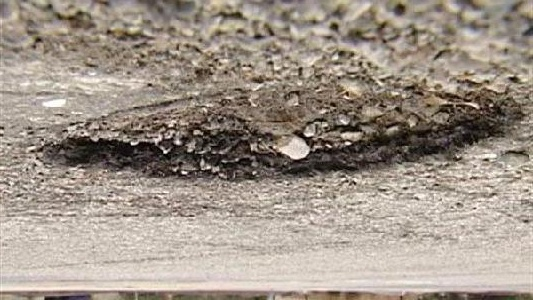pothole: (36, 53, 526, 182)
